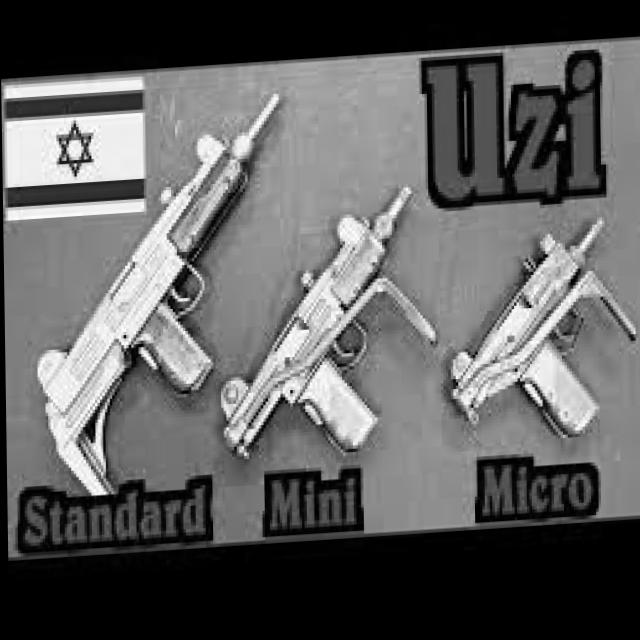semi: (31, 96, 288, 497), (212, 190, 421, 472), (441, 218, 636, 453)
